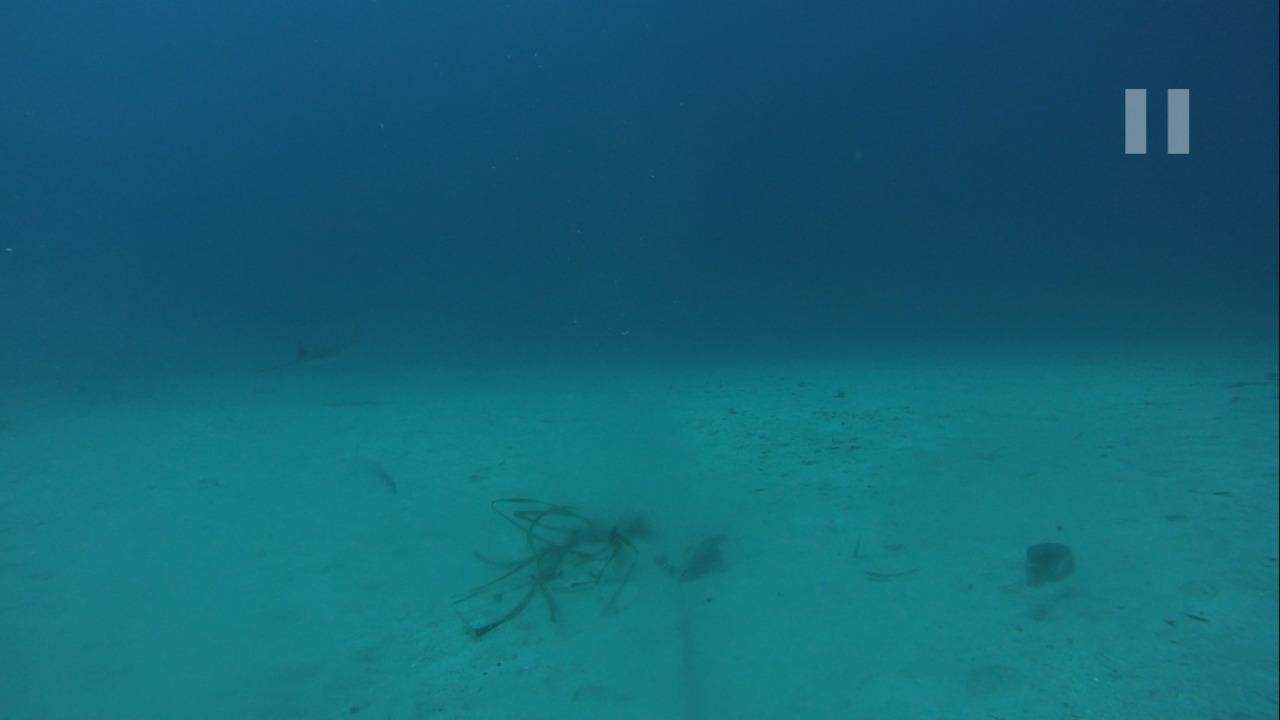myliobatis: (206, 312, 384, 394)
raor: (1014, 534, 1079, 590)
